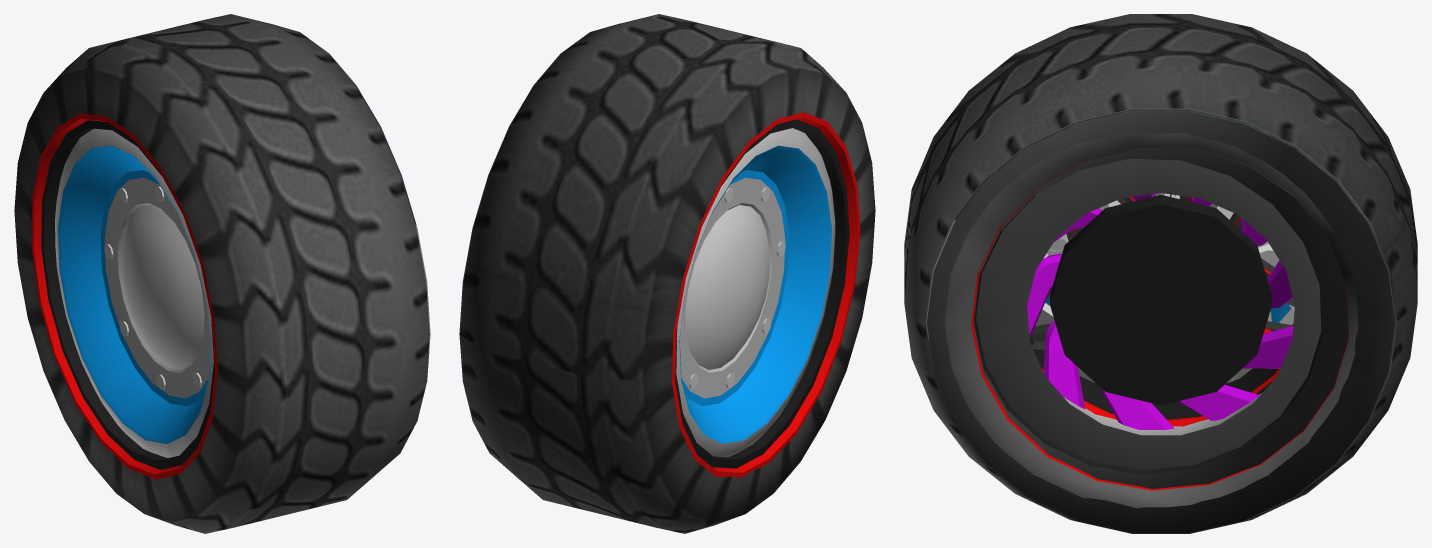
Rendered from Wheel_update.fbx.
The picture shows the model from 3 angles, left to right: view 1: azimuth 30°, elevation 25°; view 2: azimuth 150°, elevation 25°; view 3: azimuth 270°, elevation 25°; orthographic projection. The views are drawn at different scales.
Visible parts, largest first — view 1: Wheel01, Wheel03, Wheel02; view 2: Wheel01, Wheel03, Wheel02; view 3: Wheel01, Wheel02, Wheel03.
Boxes of the visible parts, x1,y1,x2,y2 form: Wheel01: (14,14,429,533); Wheel03: (55,128,213,457); Wheel02: (41,53,430,469); Wheel01: (460,14,875,533); Wheel03: (676,128,835,457); Wheel02: (459,53,849,468); Wheel01: (904,14,1417,533); Wheel02: (925,109,1396,532); Wheel03: (976,158,1321,470).
Size of the model in its own units: 0.2411 by 0.5406 by 0.5446.
